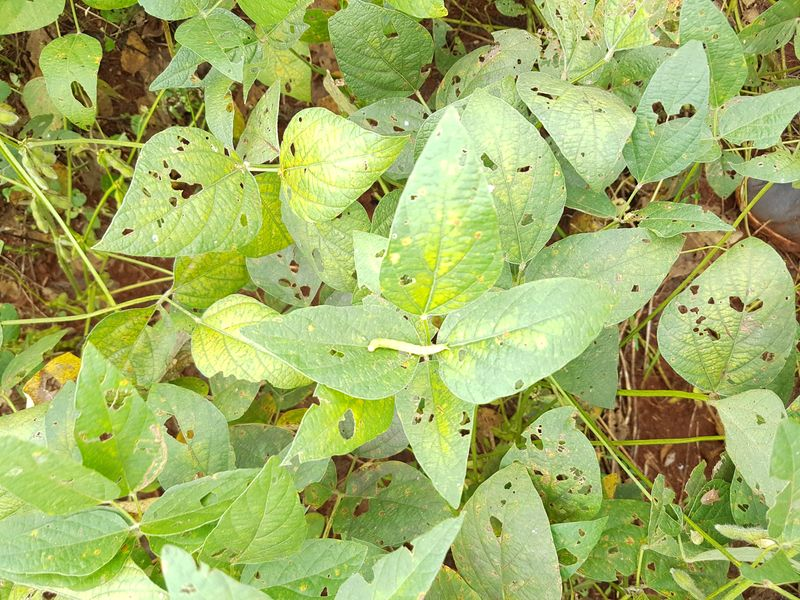Anticarsia_gemmatalis: (364, 328, 453, 374)
Euschistus_heros_adulto: (696, 483, 724, 508)
Euschistus_heros_ninfa: (685, 528, 706, 548)
